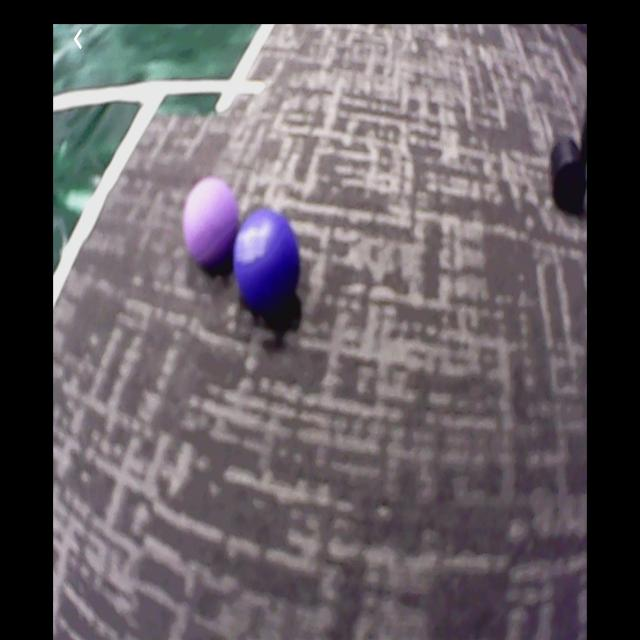ball: (233, 209, 300, 314), (186, 180, 237, 277)
